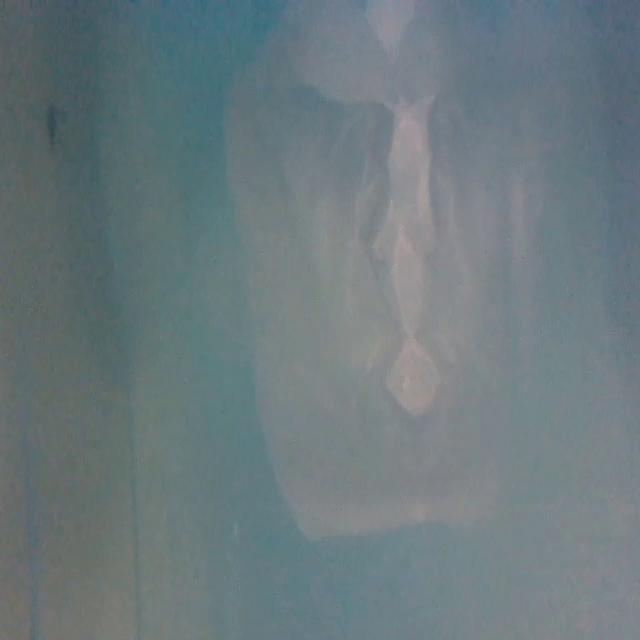plastic bags: (216, 8, 535, 543)
